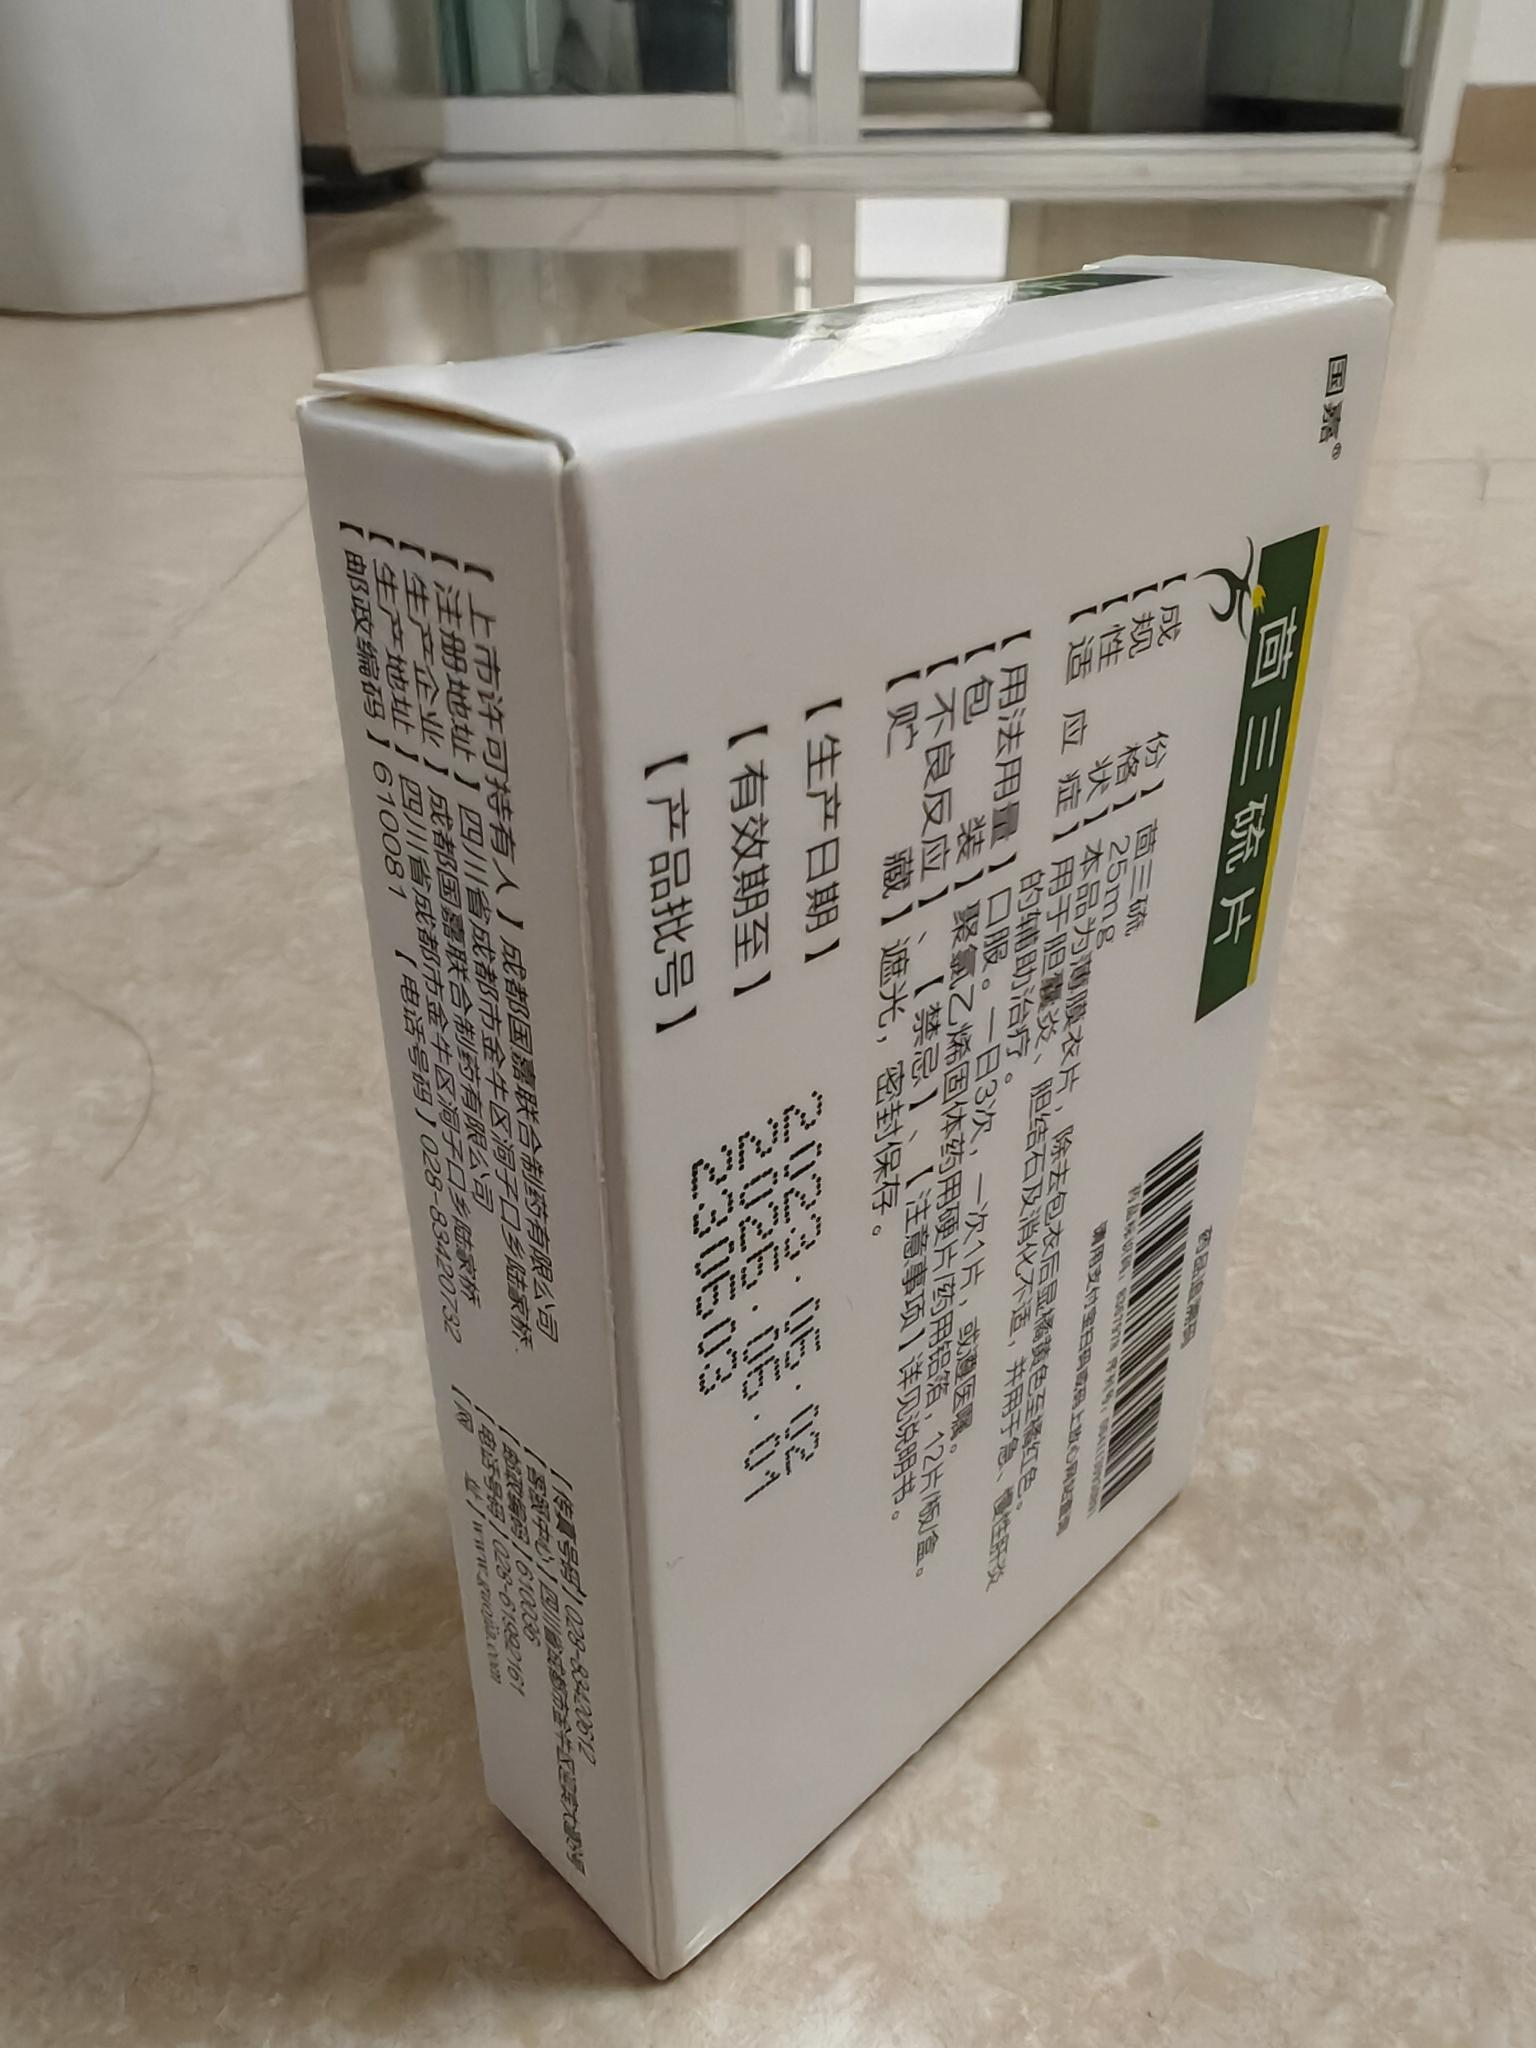Medicine4: (282, 239, 1425, 2000)
